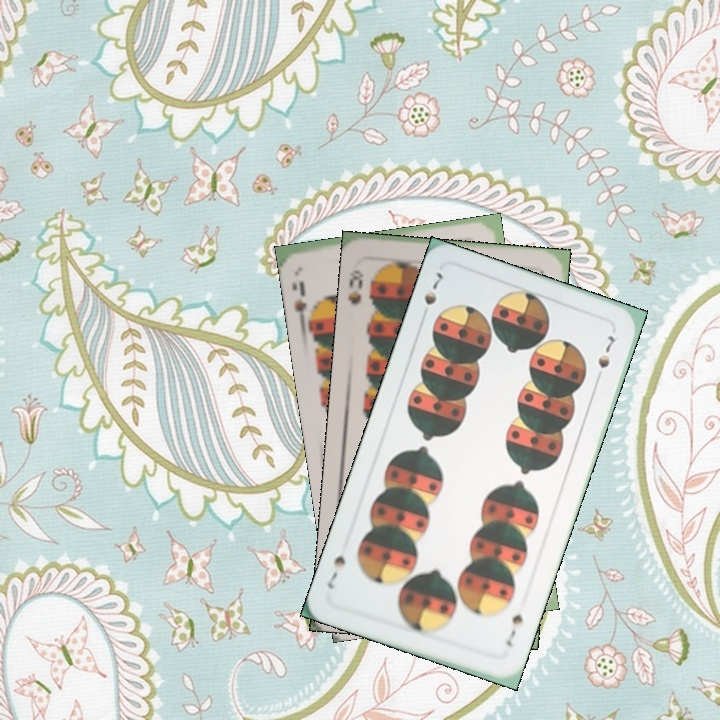S7: (417, 268, 445, 323), (502, 610, 526, 650)
S8: (344, 265, 365, 308)
S9: (288, 277, 320, 328)
